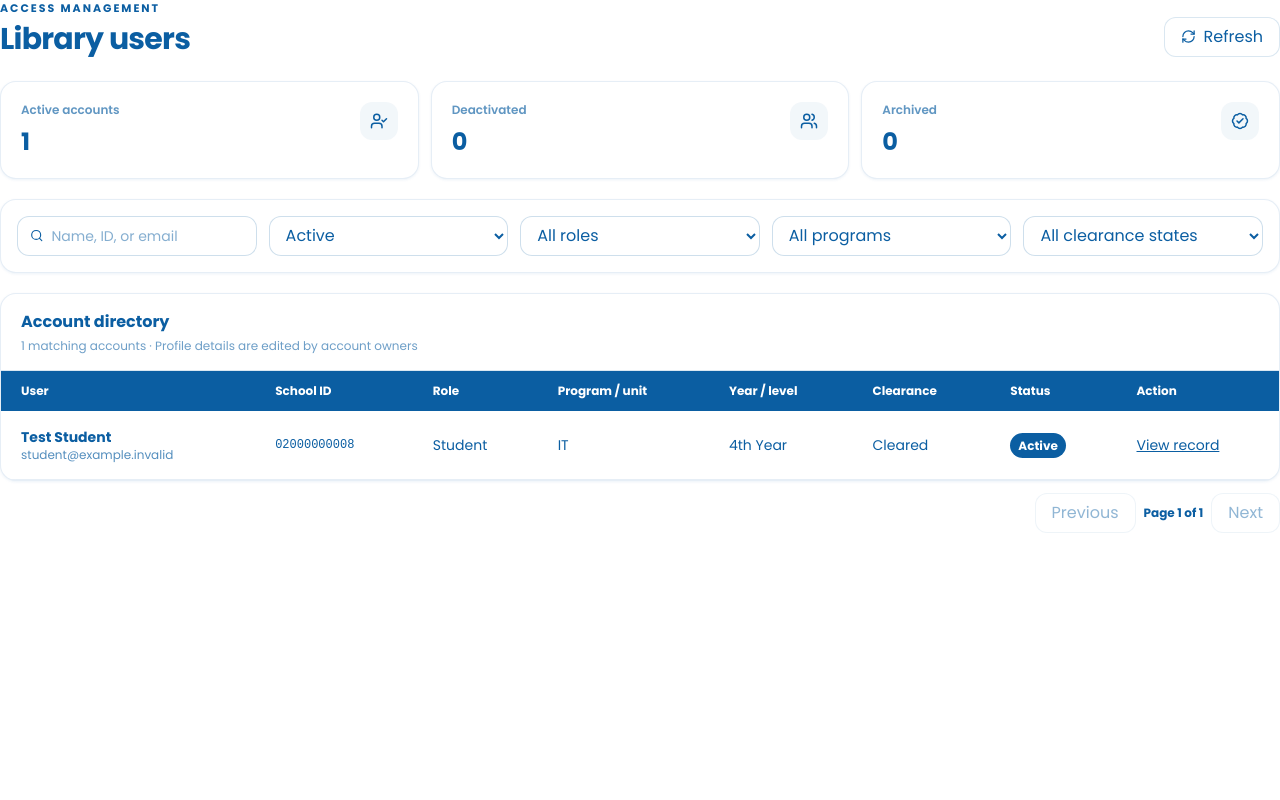
AdminUsersPage › shows account data and history without profile editing controls
Step 1. Click the button "View record" → click(1178, 444), box x1=1136 y1=434 x2=1219 y2=454
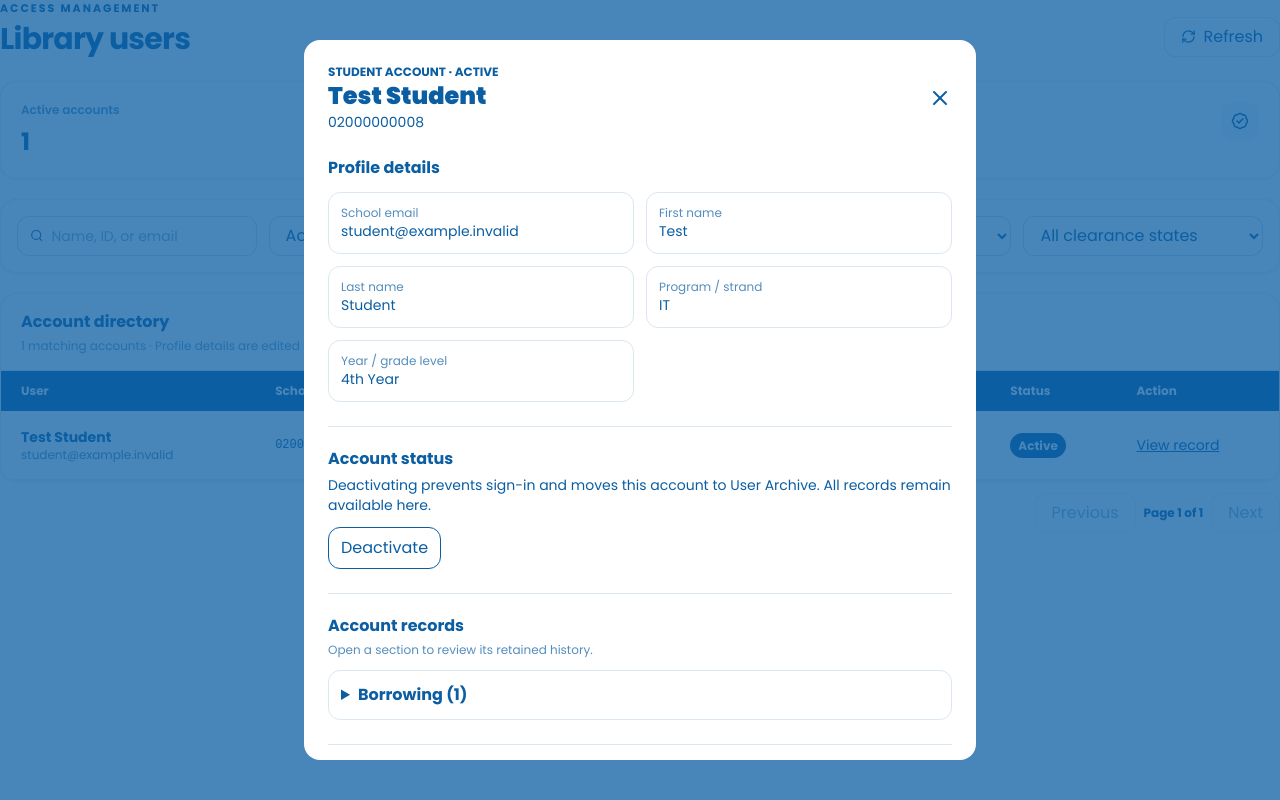
expect the dialog named "Account record" is shown: met, box x1=304 y1=40 x2=976 y2=760
expect the text "School email" is shown: met, box x1=341 y1=204 x2=418 y2=221
